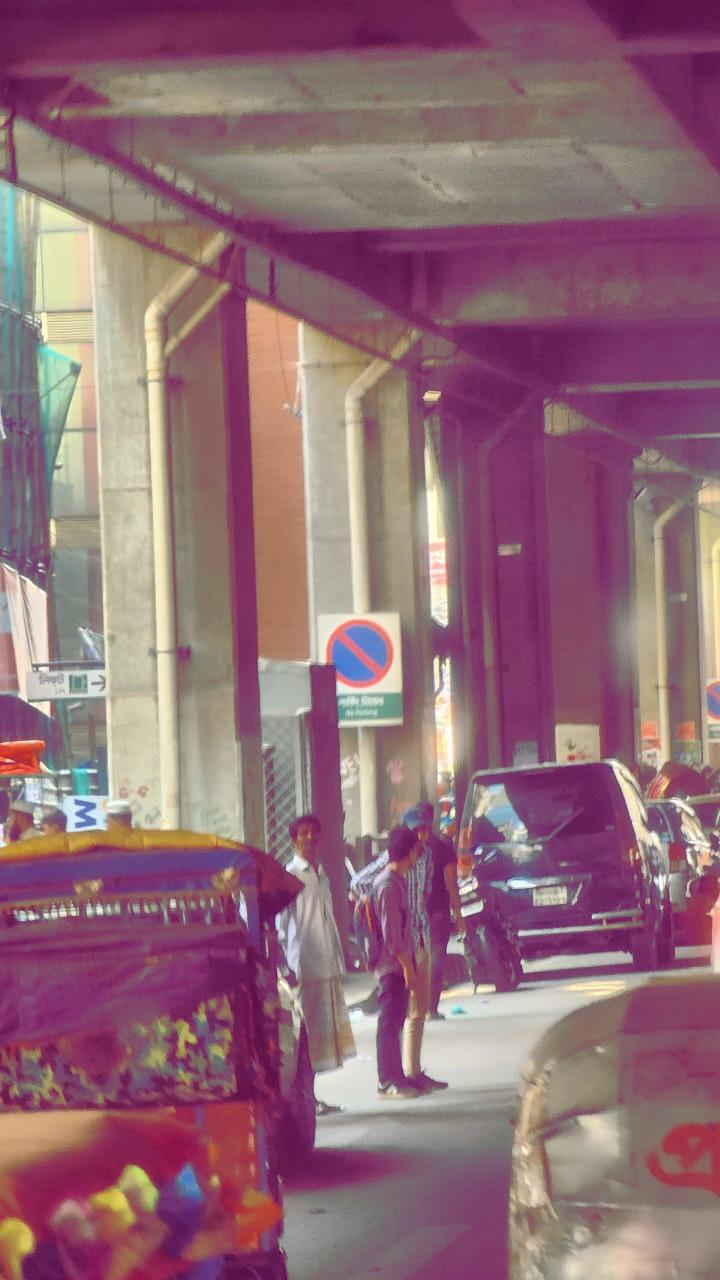No Parking: (315, 611, 404, 727)
